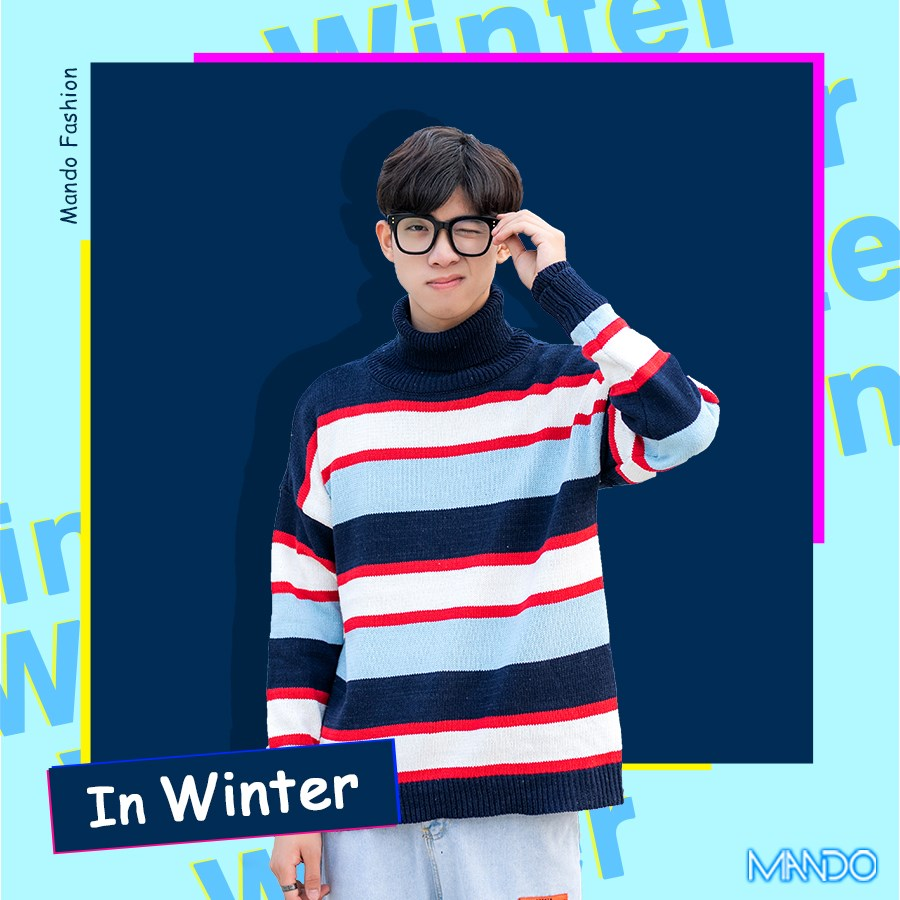person: (266, 118, 725, 900)
